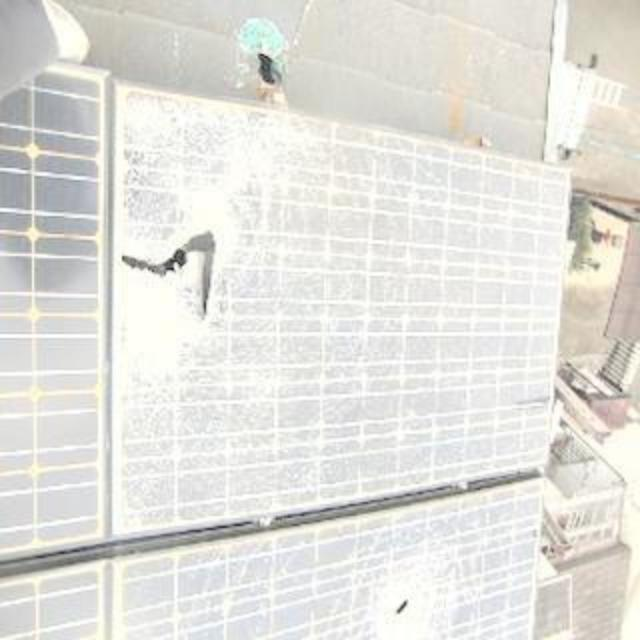cracked: (112, 96, 572, 638)
